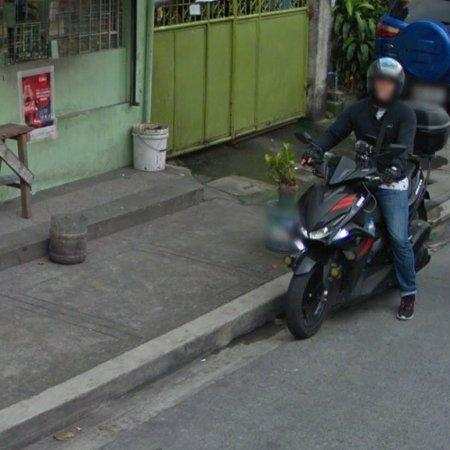motorcycles: (287, 134, 432, 338)
